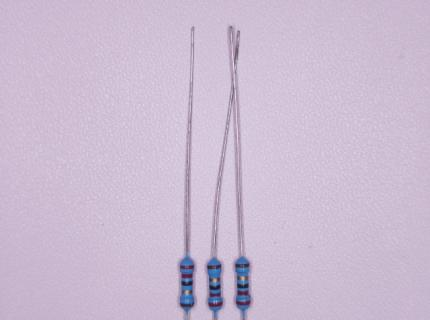Black band: (209, 284, 220, 290), (181, 281, 193, 286), (237, 283, 248, 288)
Brown band: (180, 302, 194, 307), (207, 265, 221, 270), (235, 263, 249, 268)
Gold band: (209, 277, 220, 283), (181, 290, 192, 295), (237, 276, 248, 281)
Red band: (208, 301, 222, 307), (236, 301, 250, 306), (209, 292, 221, 297), (180, 265, 194, 269), (181, 274, 192, 278), (238, 291, 249, 295)
